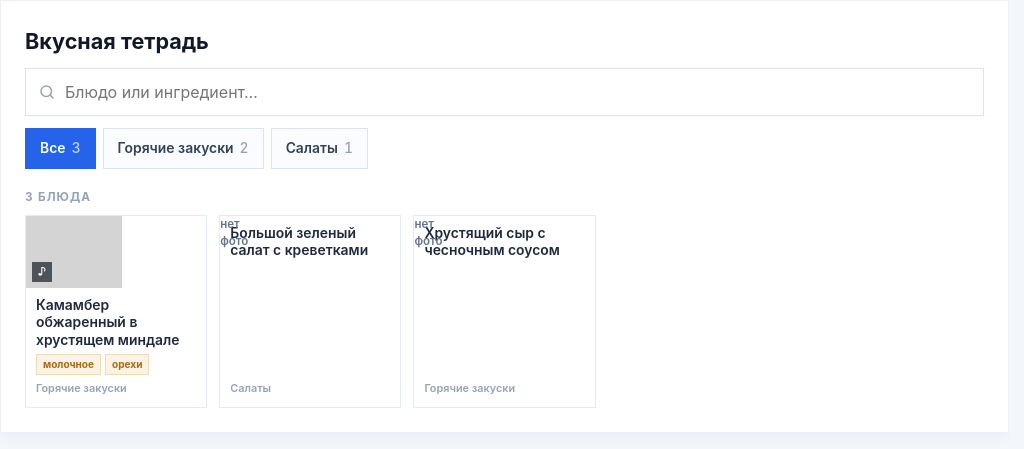
Test: TastyNotebookView — экран официанта › ищет по составу, а не только по названию
Type "креветки" into the search field with placeholder "Блюдо или ингредиент…".
click(518, 92); type("креветки")  # box 65,80 -> 971,104
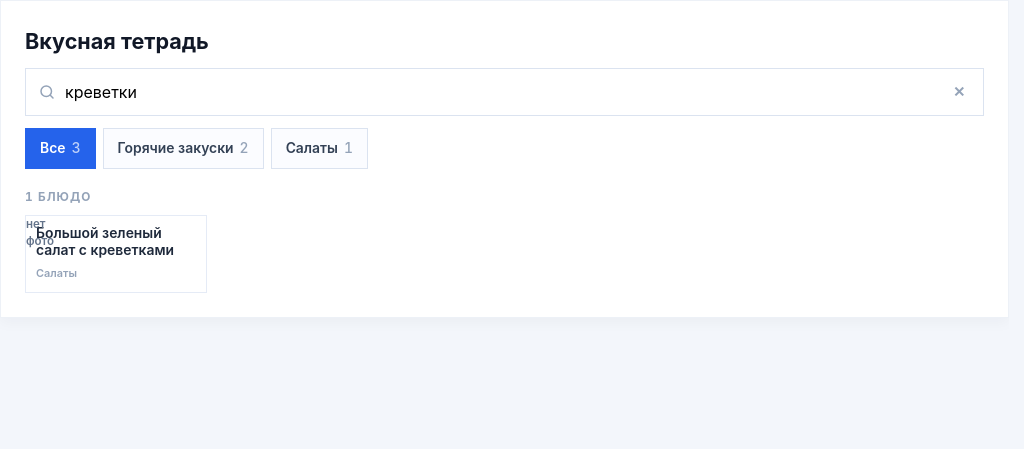
Expected: the button with class "nb-tile" shows "Большой зеленый салат", 25,215 -> 207,293
Now the number of buttons with class "nb-tile" is 1, box 25,215 -> 207,293
